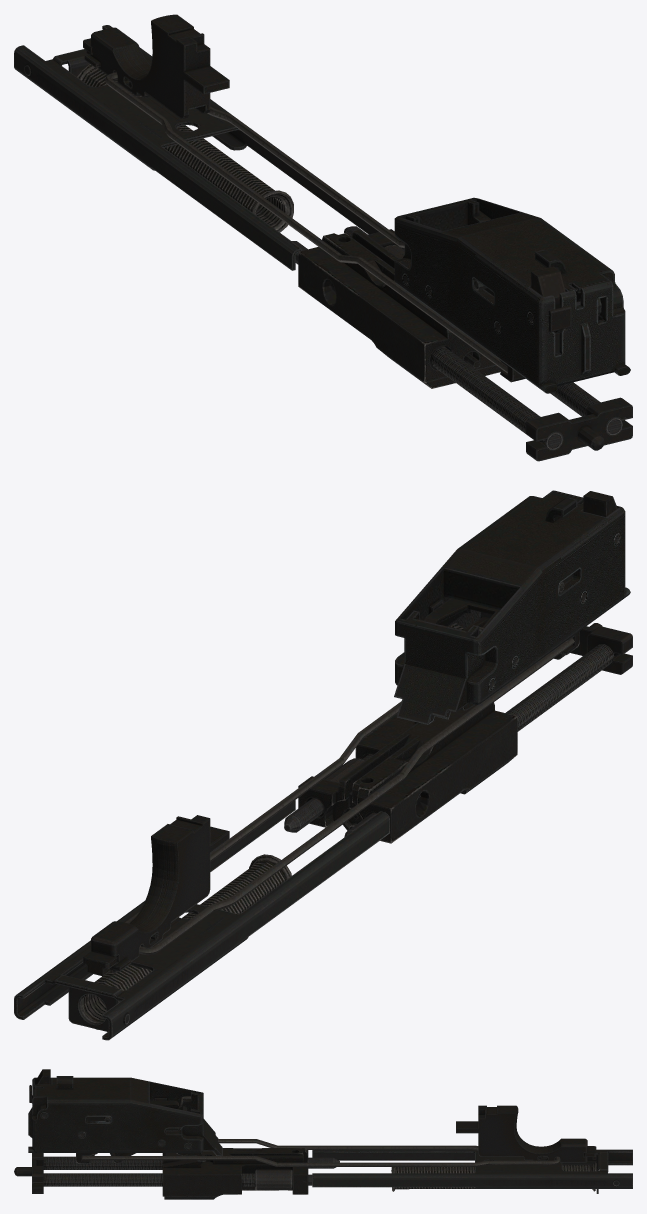
The picture shows the model from 3 angles, top to bottom: view 1: azimuth 30°, elevation 25°; view 2: azimuth 150°, elevation 25°; view 3: azimuth 270°, elevation 25°; orthographic projection. The views are drawn at different scales.
Parts seen in each view (by area): view 1: TW_5cc82d76e24e8d00134b4b83_PZ_Import; view 2: TW_5cc82d76e24e8d00134b4b83_PZ_Import; view 3: TW_5cc82d76e24e8d00134b4b83_PZ_Import.
Part boxes in pixels (<box>): TW_5cc82d76e24e8d00134b4b83_PZ_Import: <box>14,14,632,461</box>; TW_5cc82d76e24e8d00134b4b83_PZ_Import: <box>14,490,632,1040</box>; TW_5cc82d76e24e8d00134b4b83_PZ_Import: <box>14,1069,632,1199</box>.
Bounding box in the file's own units: 0.0261 × 0.2402 × 0.0473.
Materials: 1 (1 with a texture image).
